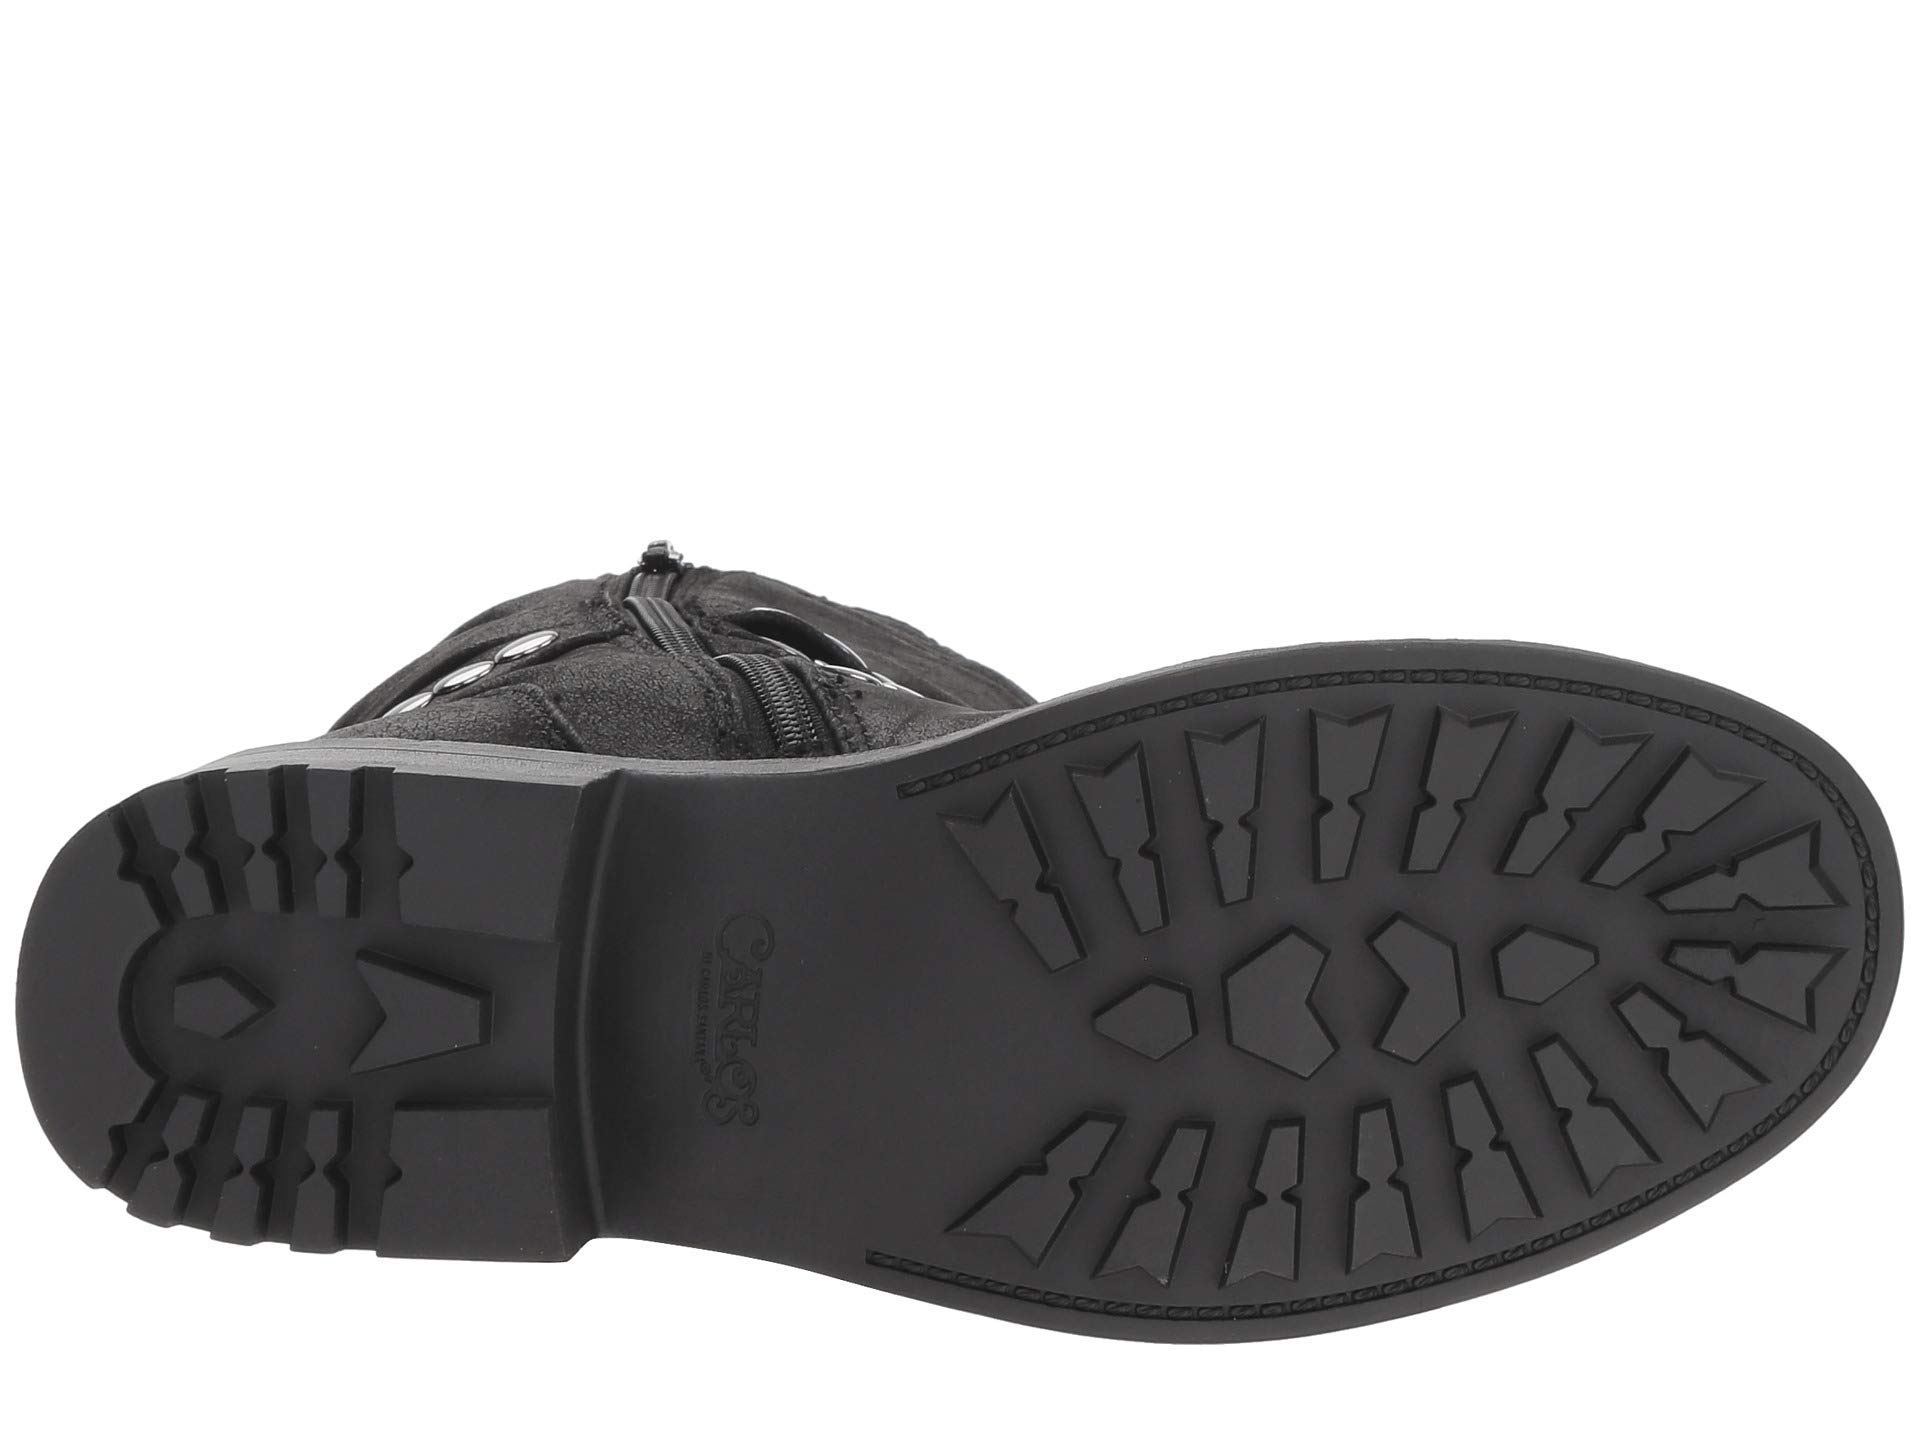bowtie: (1339, 678, 1646, 929), (937, 753, 1219, 991)
polygon: (1063, 908, 1401, 1112), (159, 933, 316, 1082), (1476, 885, 1615, 1048)
